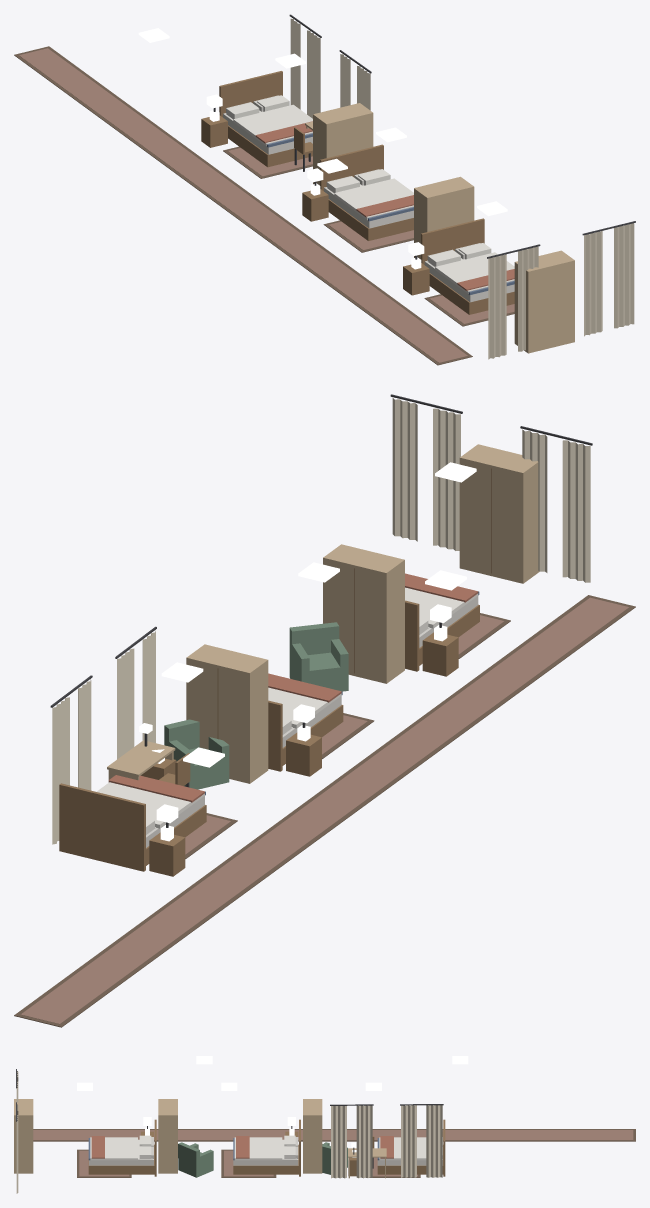
Rendered from fine-s2.glb.
3 renders of one model, top to bottom at view 1: azimuth 30°, elevation 25°; view 2: azimuth 150°, elevation 25°; view 3: azimuth 270°, elevation 25°, orthographic. The views are drawn at different scales.
Visible parts, largest first — view 1: soft-s2, dresser.005, bed-frame.004, bed-frame.003, bed-frame.005, dresser.004, dresser.003, nightstand.003, nightstand.004, nightstand.005; view 2: soft-s2, dresser.005, dresser.004, dresser.003, bed-frame.003, lounge-chair.003, lounge-chair.002, bed-frame.004, bed-frame.005, writing-desk.001, nightstand.003, nightstand.005 (+1 smaller); view 3: soft-s2, dresser.003, dresser.004, dresser.005, bed-frame.005, bed-frame.004, lounge-chair.003, bed-frame.003, writing-desk.001, lounge-chair.002.
Part boxes in pixels (x1,y1,x2,y2): soft-s2: (14,14,635,365); dresser.005: (514,250,574,353); bed-frame.004: (320,144,413,240); bed-frame.003: (219,71,312,167); bed-frame.005: (421,218,514,314); dresser.004: (414,176,474,259); dresser.003: (313,103,373,185); nightstand.003: (201,110,227,147); nightstand.004: (302,183,328,221); nightstand.005: (403,257,429,295); soft-s2: (14,394,635,1027); dresser.005: (459,444,539,583); dresser.004: (323,544,404,683); dresser.003: (186,644,268,783); bed-frame.003: (59,783,206,871); lounge-chair.003: (289,622,348,691); lounge-chair.002: (164,719,229,789); bed-frame.004: (268,691,343,771); bed-frame.005: (405,591,479,671); writing-desk.001: (107,723,175,780); nightstand.003: (149,825,185,876); nightstand.005: (422,625,458,676); soft-s2: (16,1069,635,1193); dresser.003: (303,1099,322,1173); dresser.004: (158,1099,177,1173); dresser.005: (14,1099,33,1173); bed-frame.005: (88,1119,156,1176); bed-frame.004: (233,1119,300,1176); lounge-chair.003: (178,1142,213,1177); bed-frame.003: (377,1119,445,1176); writing-desk.001: (348,1142,386,1178); lounge-chair.002: (322,1142,347,1174).
Bounding box in the file's own units: 4.85 × 2.61 × 19.26.
